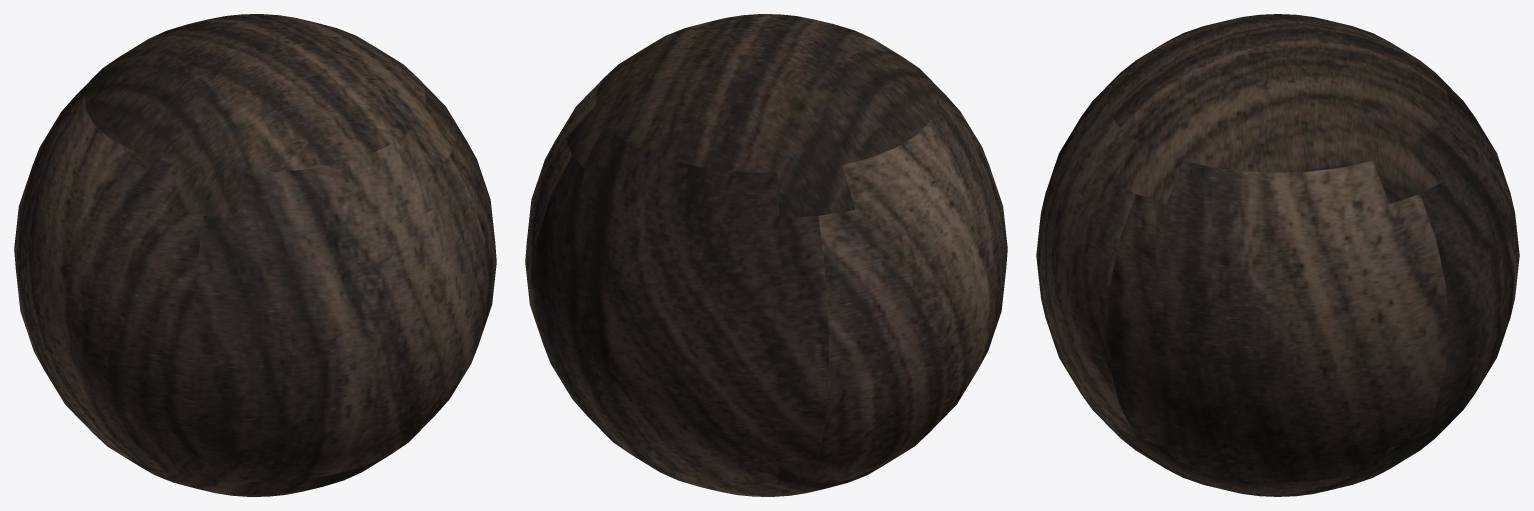
The model's file is treeball.obj.
3 views of the same model, side by side, from view 1: azimuth 30°, elevation 25°; view 2: azimuth 150°, elevation 25°; view 3: azimuth 270°, elevation 25° (orthographic).
Visible parts, largest first — view 1: Sphere; view 2: Sphere; view 3: Sphere.
Part boxes in pixels (box(x1,y1,x2,y2)): Sphere: box(14, 14, 496, 496); Sphere: box(525, 14, 1007, 496); Sphere: box(1036, 14, 1519, 496).
Size of the model in its own units: 0.2422 by 0.2422 by 0.2422.
1 material, 1 textured.
